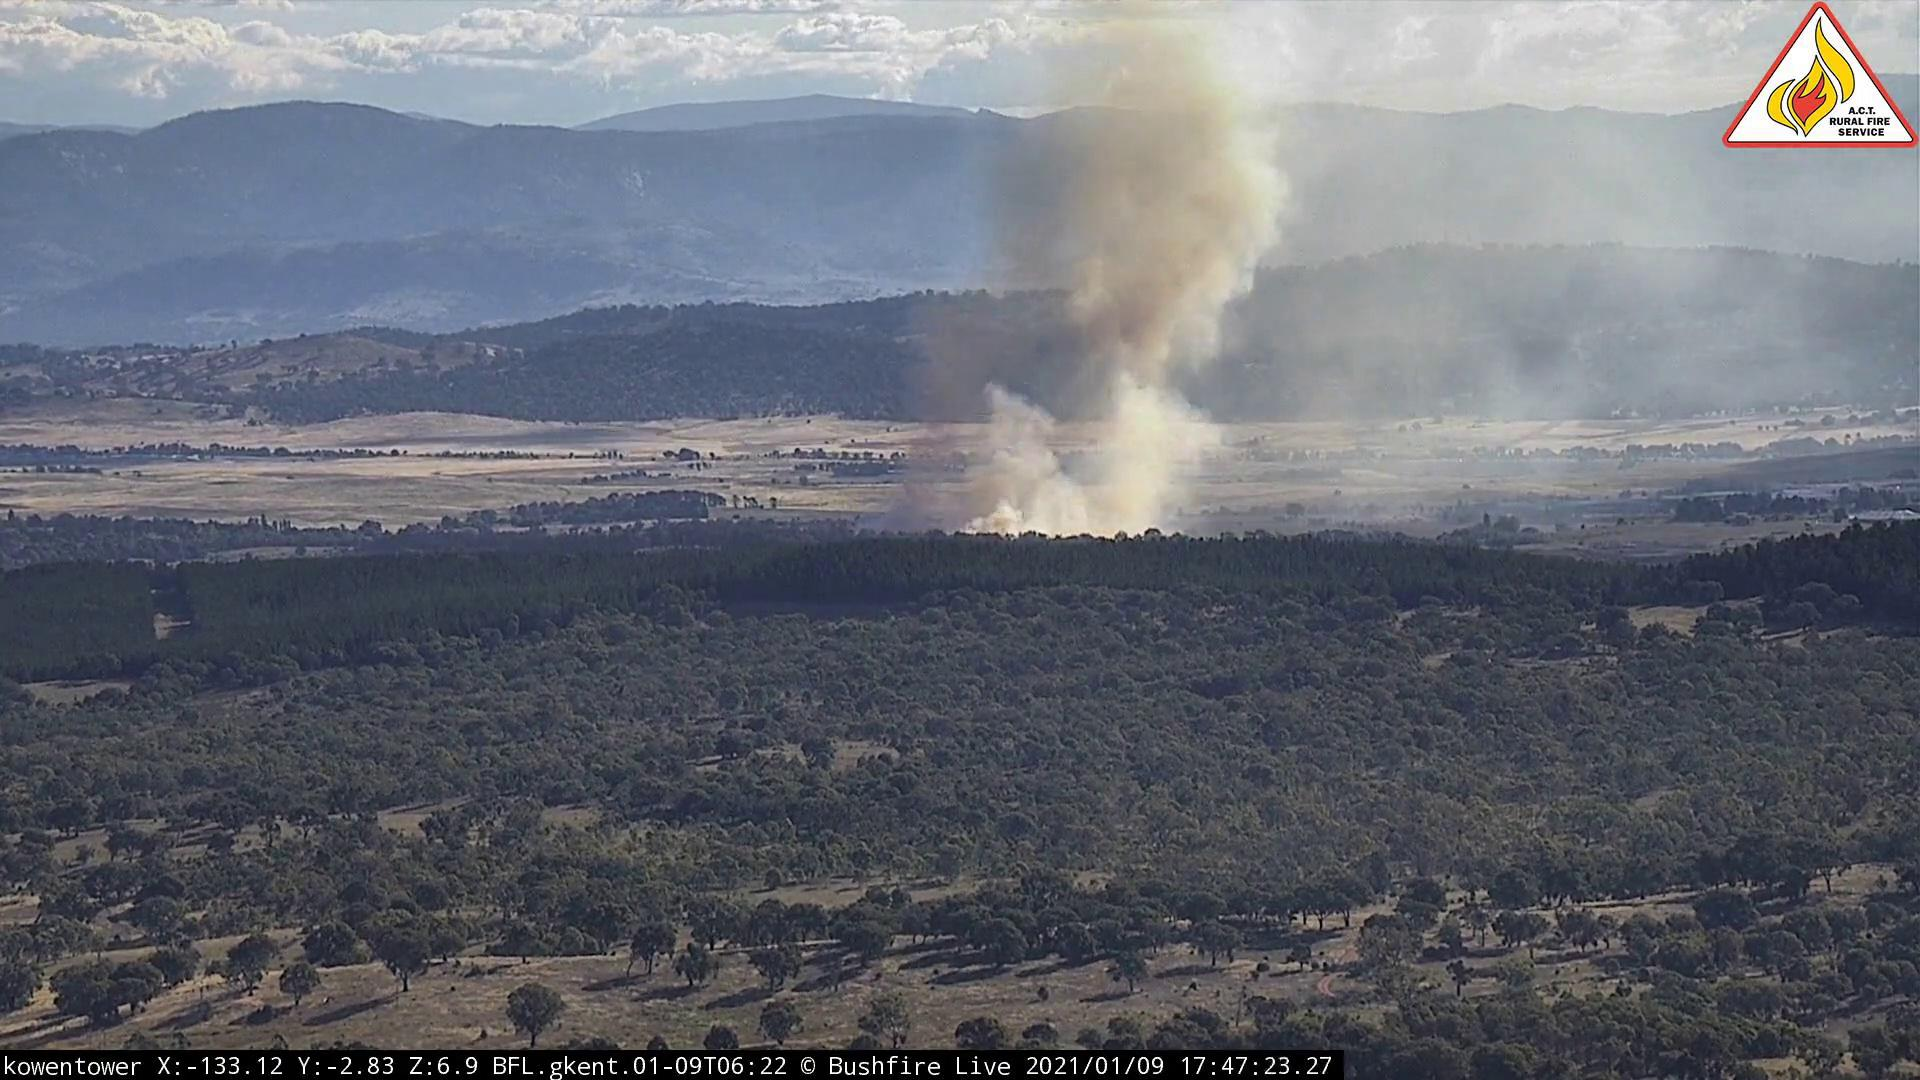Smoke: (843, 3, 1720, 550)
